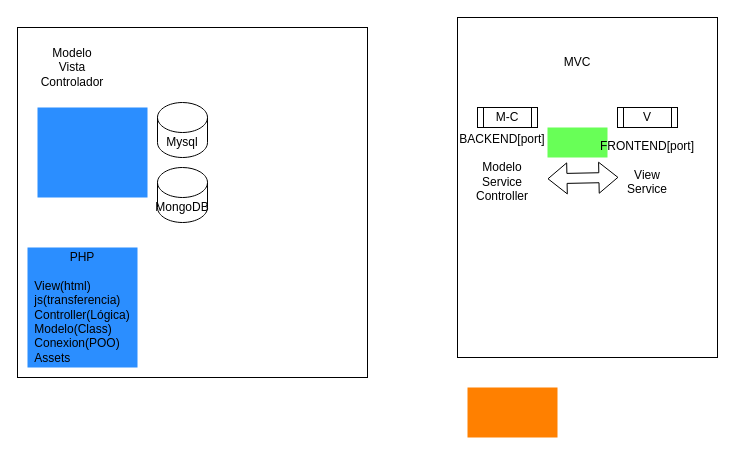
The diagram is 735 pixels wide and 455 high, and some of its shapes have lost their labels. Here are the shapes that lost their labels. From the top down, the centre of each, then its label:
At point (92, 152): "Ant View(Form) Controller(Lógica) Modelo(Class) Conexion(POO)".
At point (577, 142): "API".
At point (512, 412): "Como definir una ruta API".
